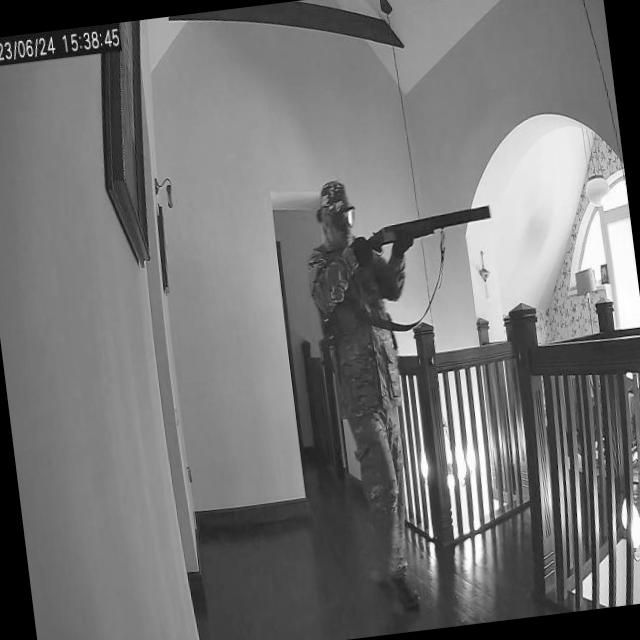gun: (364, 204, 496, 248)
person with a gun: (292, 159, 541, 632)
